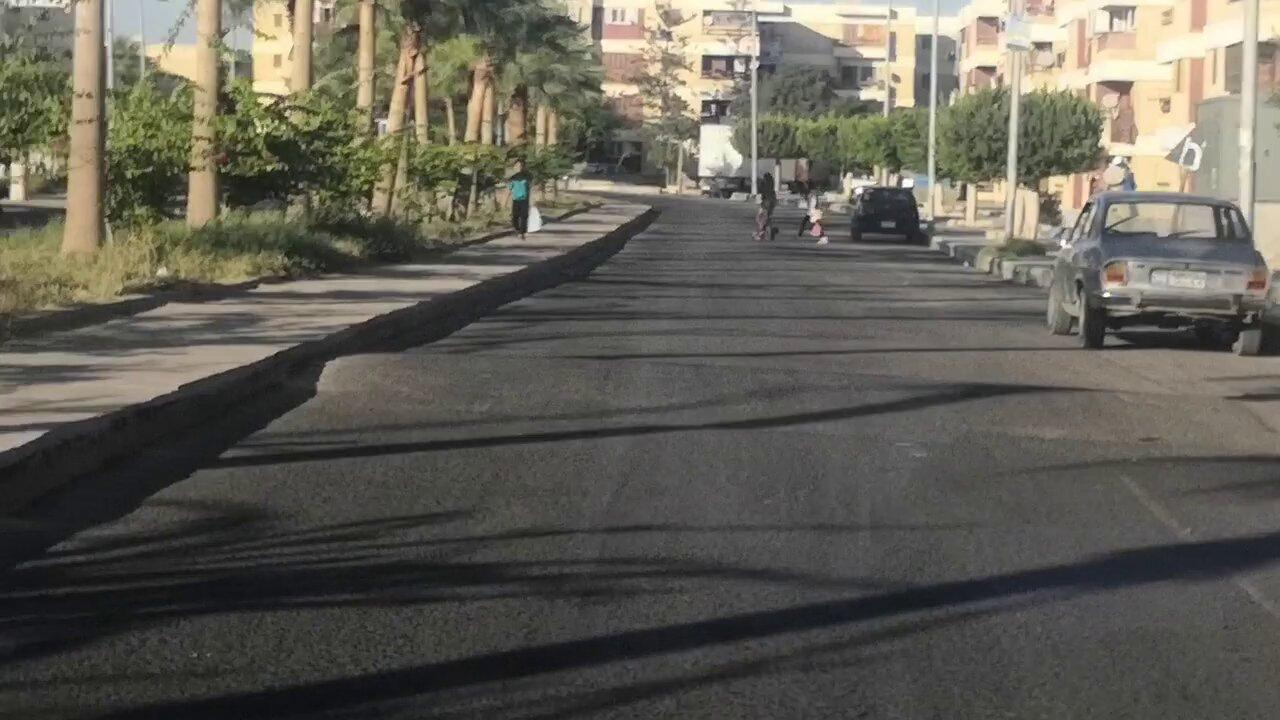Bump: (337, 348, 1280, 445)
